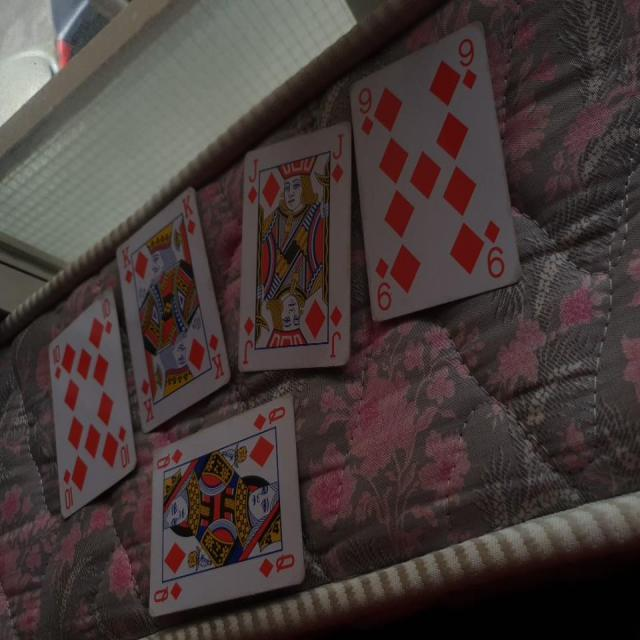10 Diamonds: (47, 284, 138, 521)
9 Diamonds: (348, 20, 522, 321)
J Diamonds: (235, 117, 354, 370)
K Diamonds: (114, 186, 231, 434)
Q Diamonds: (149, 391, 308, 616)
